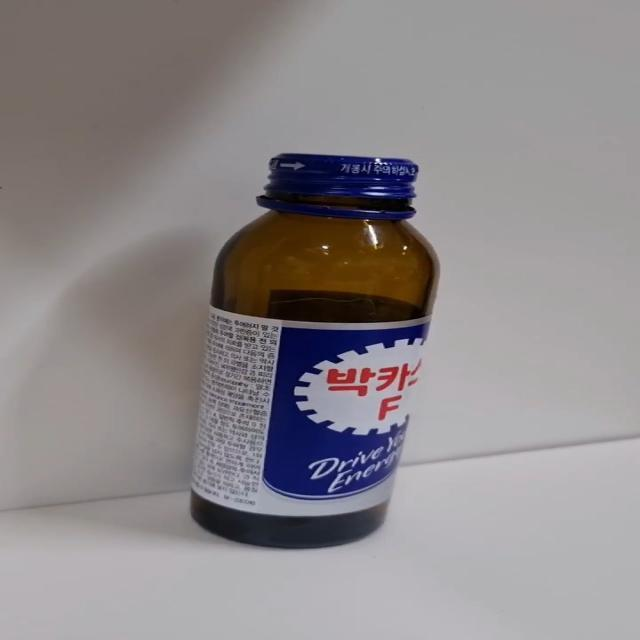Glass: (188, 154, 440, 552)
